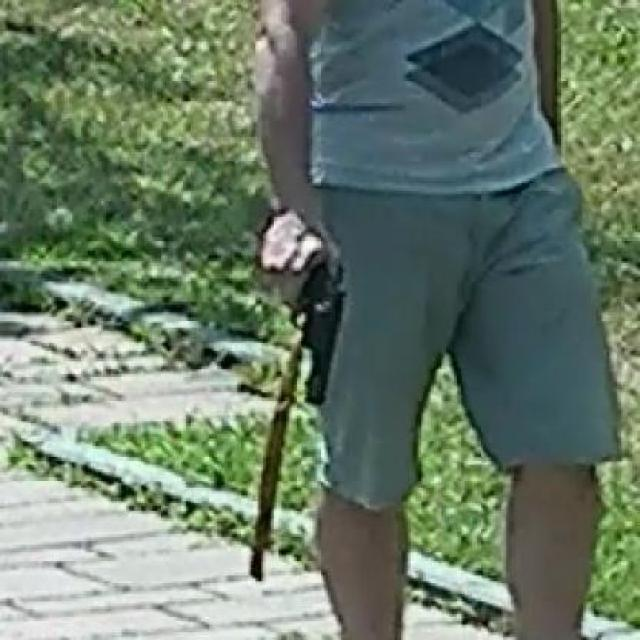gun: (251, 207, 354, 406)
